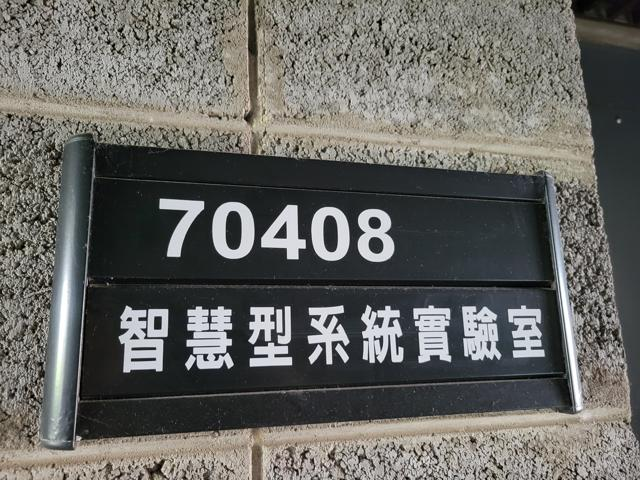doorplate: (34, 124, 590, 454)
